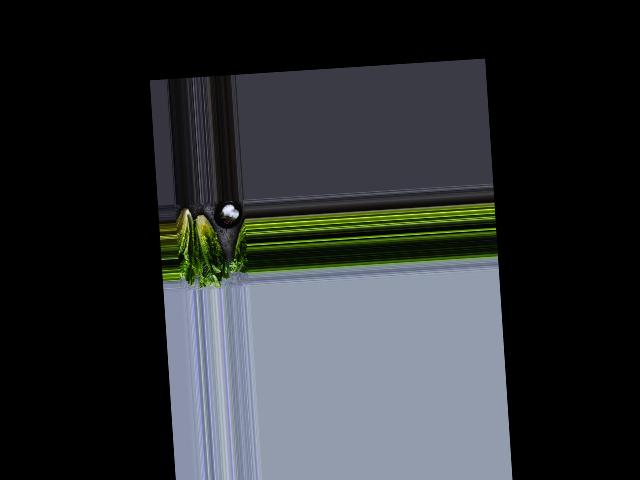lettuce: (175, 202, 200, 280)
